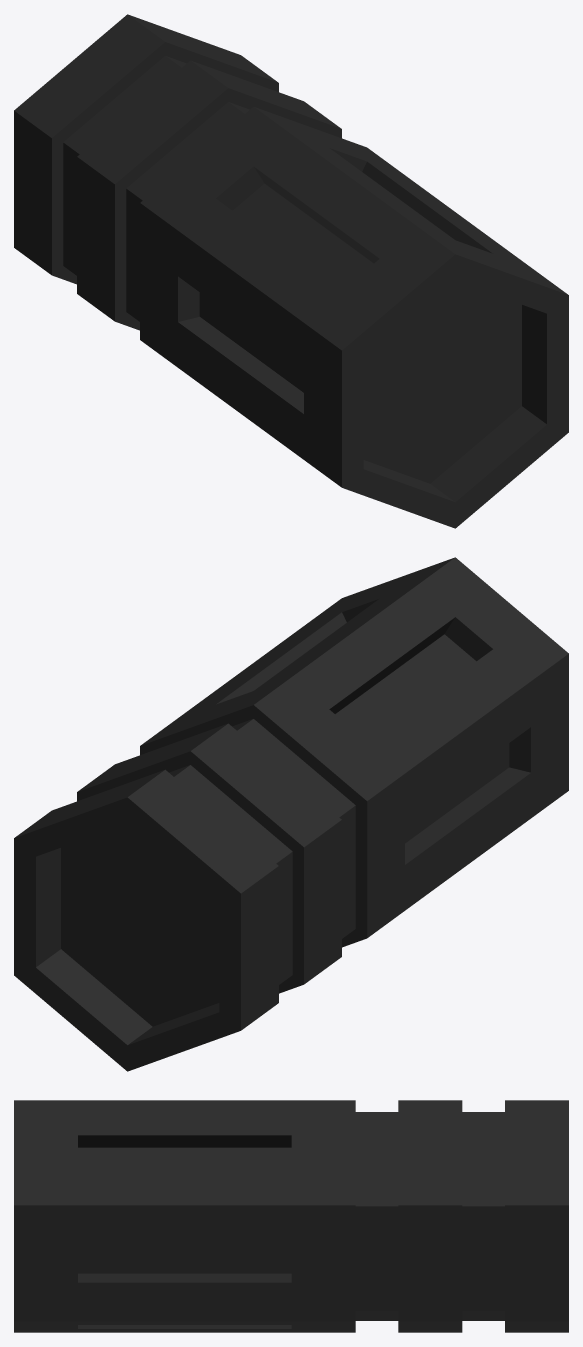
File: Muzzle_Flash Hider_A.fbx
The picture shows the model from 3 angles, top to bottom: view 1: azimuth 30°, elevation 25°; view 2: azimuth 150°, elevation 25°; view 3: azimuth 270°, elevation 25°; orthographic projection. The views are drawn at different scales.
Parts seen in each view (by area): view 1: Muzzle_Flash Hider_A; view 2: Muzzle_Flash Hider_A; view 3: Muzzle_Flash Hider_A.
Boxes of the visible parts, bbox=[...] form: Muzzle_Flash Hider_A: bbox=[14, 14, 568, 528]; Muzzle_Flash Hider_A: bbox=[14, 557, 568, 1071]; Muzzle_Flash Hider_A: bbox=[14, 1100, 568, 1332].
Size of the model in its own units: 0.1039 by 0.12 by 0.26.
